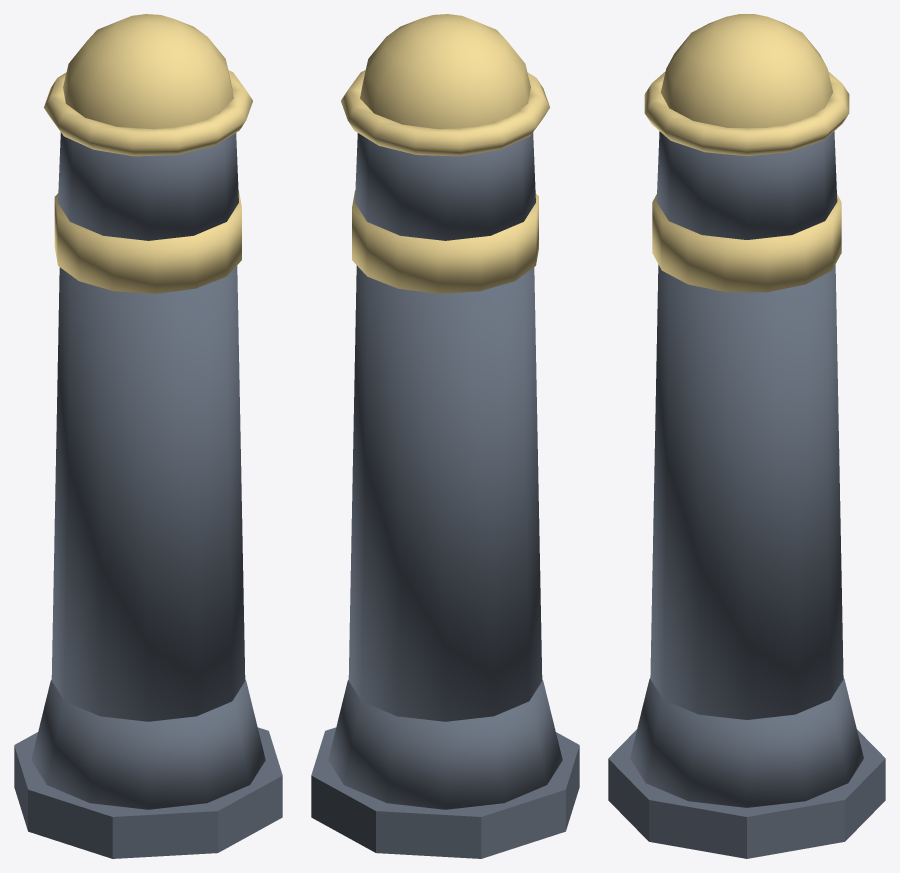
Rendered from prop_bollard.glb.
3 views of the same model, side by side, from view 1: azimuth 30°, elevation 25°; view 2: azimuth 150°, elevation 25°; view 3: azimuth 270°, elevation 25° (orthographic).
Parts seen in each view (by area): view 1: BasePlate; view 2: BasePlate; view 3: BasePlate.
Part boxes in pixels (x1,y1,x2,y2): BasePlate: [14, 14, 282, 858]; BasePlate: [311, 14, 579, 858]; BasePlate: [608, 14, 885, 858].
Bounding box in the file's own units: 0.27 × 0.8357 × 0.27.
